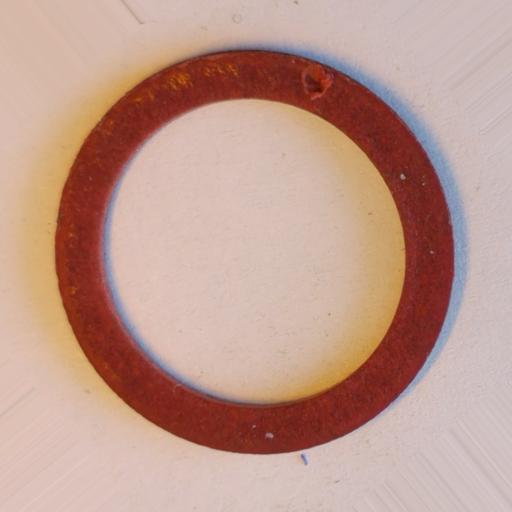defect: (301, 64, 333, 98)
